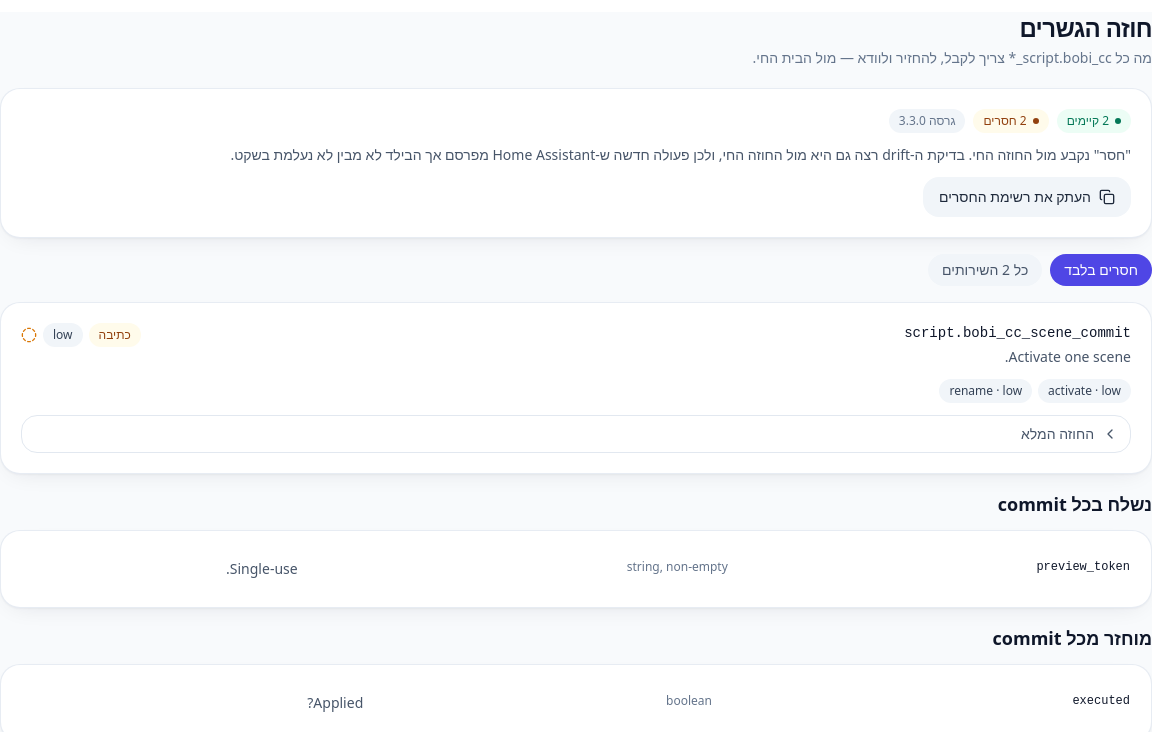
the bridge specification screen › shows every service when asked
Click the button "כל 2 השירותים" at (985, 270), box [928,254,1042,286]
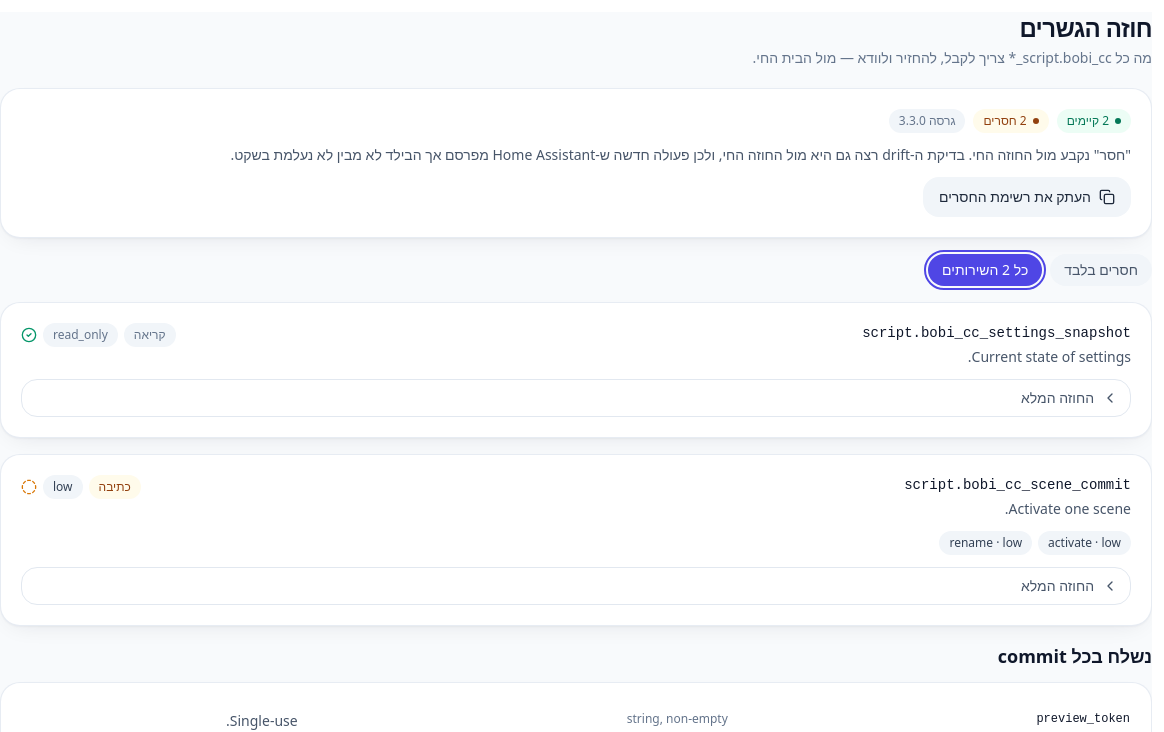
Expected: the text "script.bobi_cc_scene_commit" is shown, [904,475,1131,495]
Now the text "script.bobi_cc_settings_snapshot" is shown, box [862,323,1131,343]
